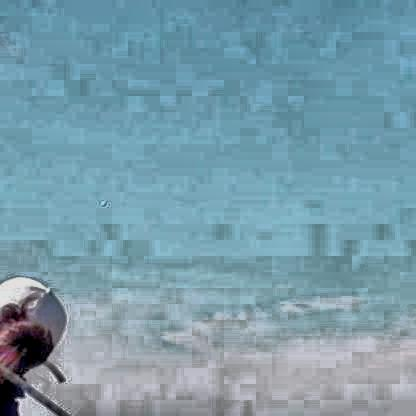golfball: (98, 198, 105, 204)
